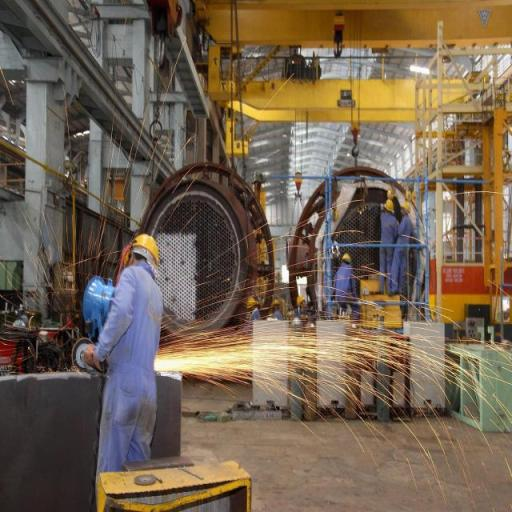helmet: (129, 230, 161, 265), (385, 200, 395, 213), (401, 201, 411, 213), (296, 294, 305, 306), (342, 252, 352, 262)
